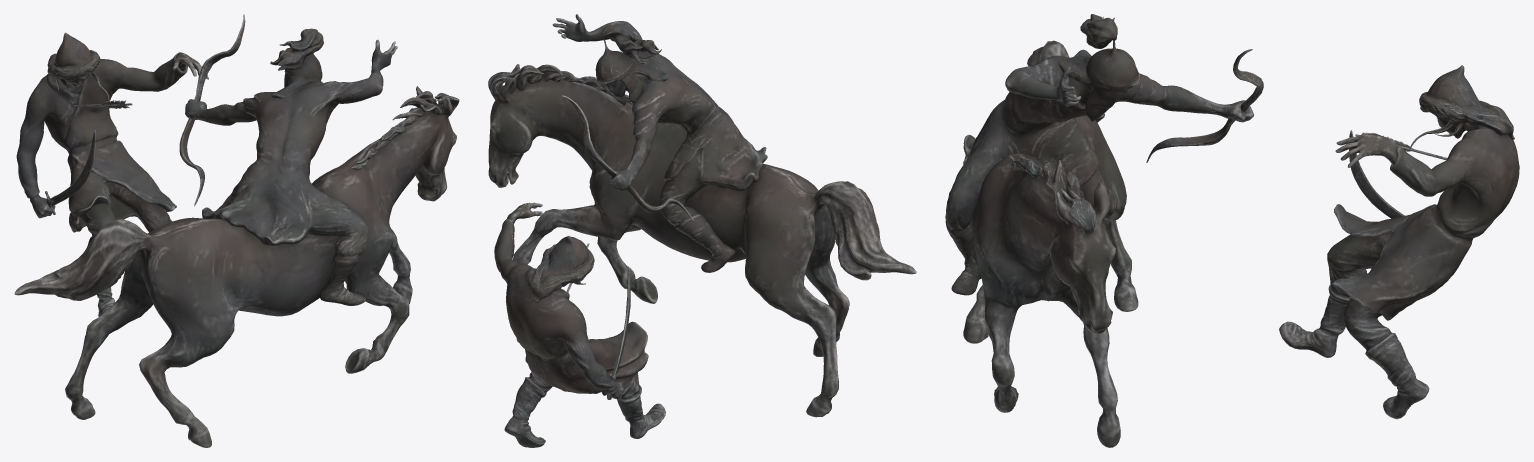
The model's file is warrior-transformed.glb.
3 renders of one model, left to right at view 1: azimuth 30°, elevation 25°; view 2: azimuth 150°, elevation 25°; view 3: azimuth 270°, elevation 25°, orthographic. The views are drawn at different scales.
Parts seen in each view (by area): view 1: warriorStatue.001; view 2: warriorStatue.001; view 3: warriorStatue.001.
Boxes of the visible parts, left/top/right/bottom form: warriorStatue.001: left=14, top=14, right=459, bottom=447; warriorStatue.001: left=488, top=14, right=916, bottom=447; warriorStatue.001: left=945, top=14, right=1519, bottom=447.
Size of the model in its own units: 2 by 1.47 by 1.84.
1 material, 1 textured.
